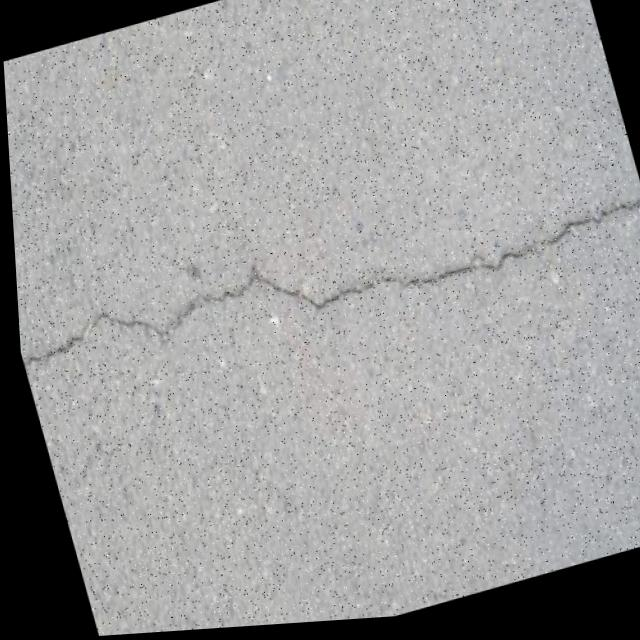Crack: (8, 138, 640, 412)
